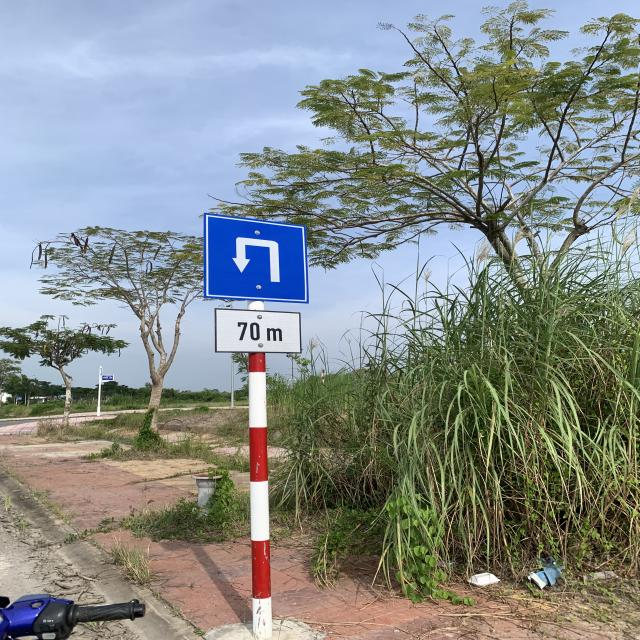Den_Giao_Thong: (204, 213, 308, 303)
